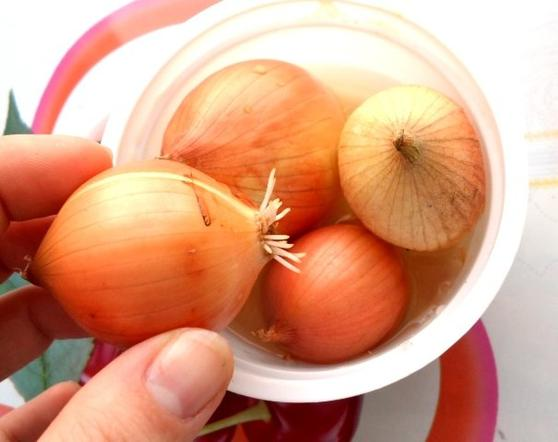onion: (39, 165, 269, 336), (335, 81, 487, 254), (257, 214, 412, 363)
